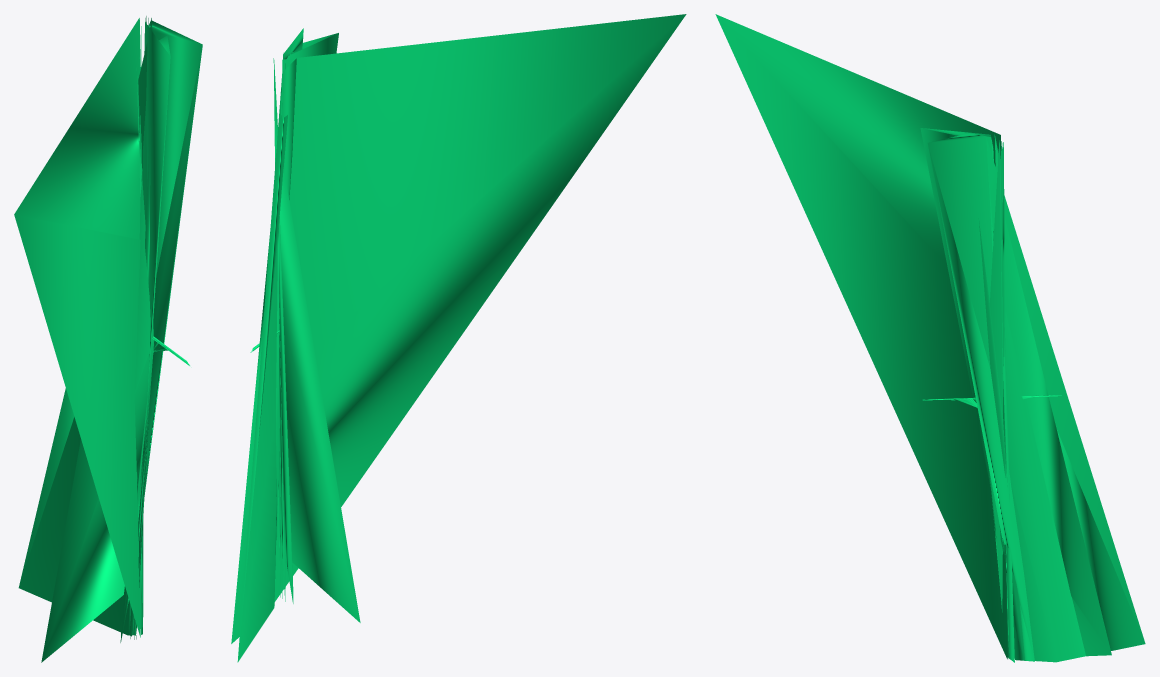
The model's file is cubinder_5d_ar_universal.glb.
The picture shows the model from 3 angles, left to right: view 1: azimuth 30°, elevation 25°; view 2: azimuth 150°, elevation 25°; view 3: azimuth 270°, elevation 25°; orthographic projection. The views are drawn at different scales.
Parts seen in each view (by area): view 1: cubinder_5d_ar; view 2: cubinder_5d_ar; view 3: cubinder_5d_ar.
Part boxes in pixels (box(x1,y1,x2,y2)): cubinder_5d_ar: box(14, 16, 202, 662); cubinder_5d_ar: box(231, 14, 686, 662); cubinder_5d_ar: box(715, 14, 1145, 662).
Bounding box in the file's own units: 0.528 × 1 × 0.7452.
